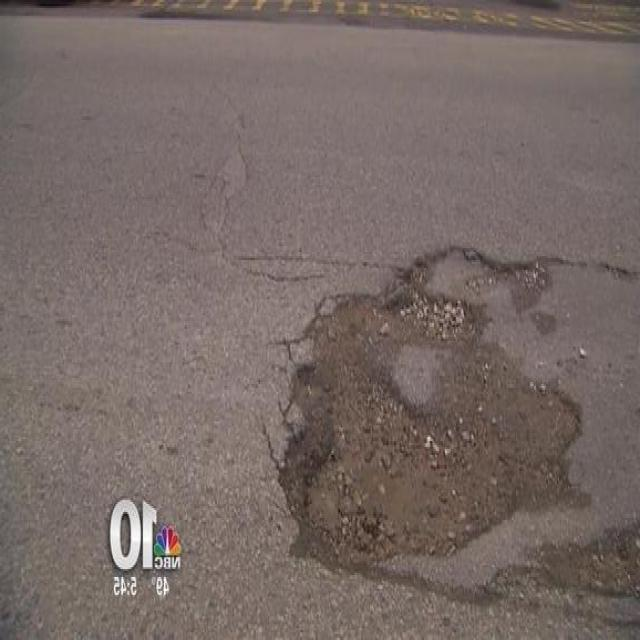pothole: (280, 237, 584, 581)
